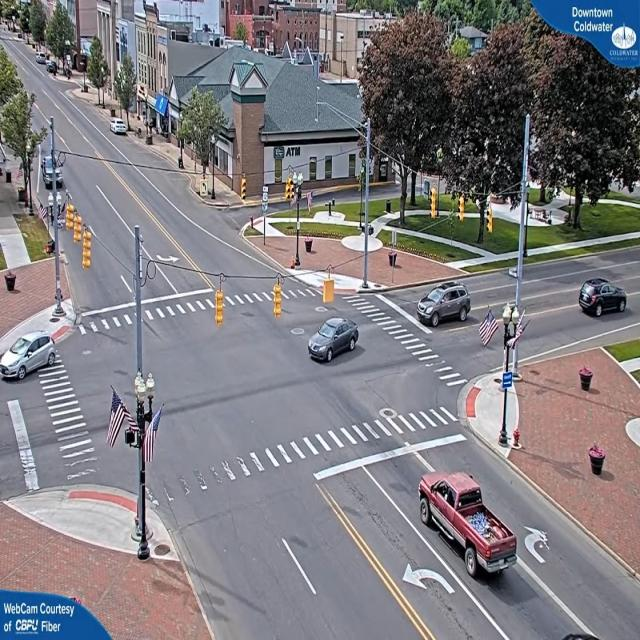car: (418, 474, 516, 584), (1, 332, 58, 383), (307, 317, 361, 365), (417, 283, 473, 329), (580, 276, 630, 318), (111, 120, 129, 136)
